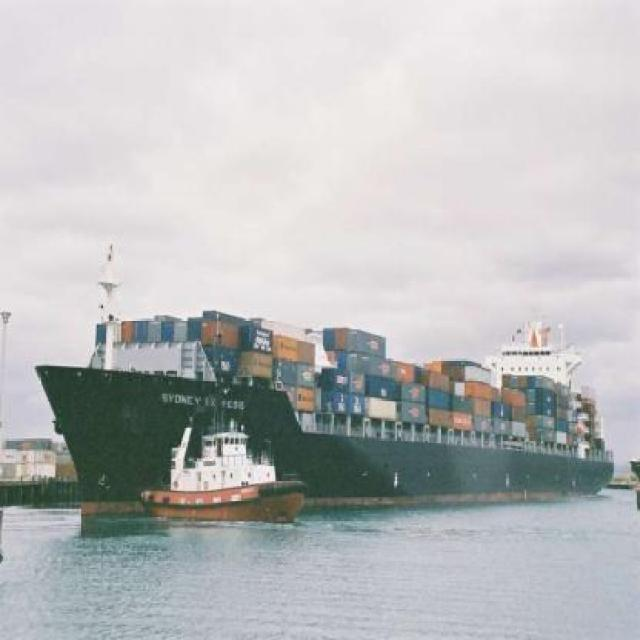ship: (38, 292, 604, 510)
